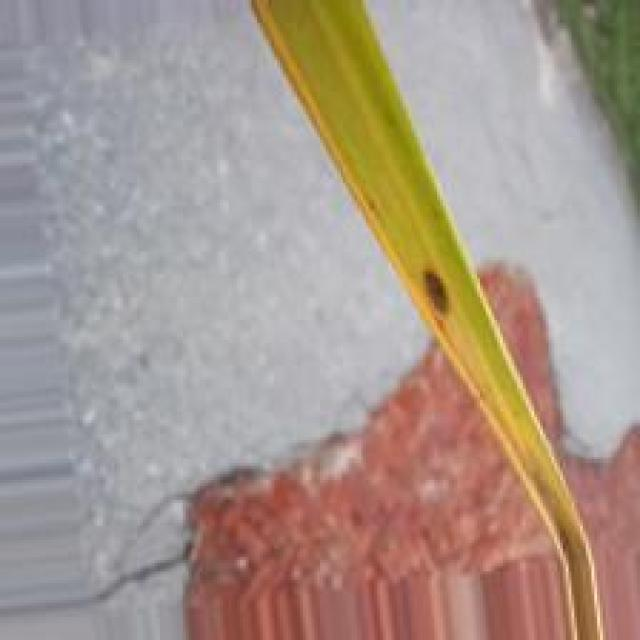Brown_Spot: (416, 266, 459, 322)
